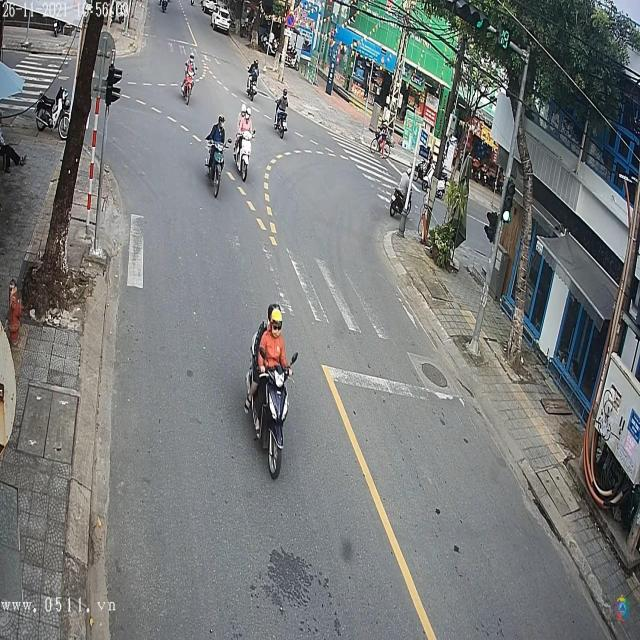motorcycle: (245, 317, 296, 479), (206, 132, 230, 202), (233, 132, 252, 183), (181, 62, 197, 110)
